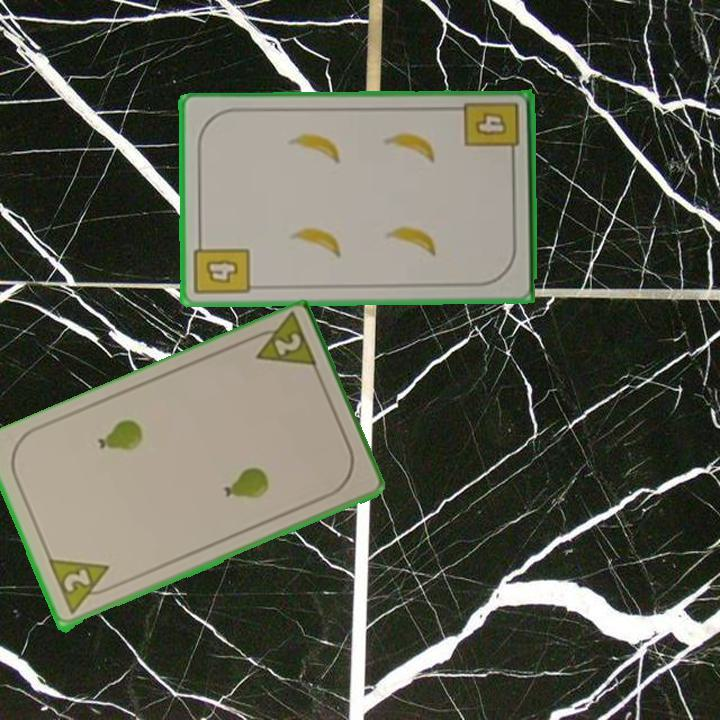2p: (243, 312, 321, 374), (45, 556, 119, 618)
4b: (461, 98, 523, 164), (191, 234, 253, 298)
